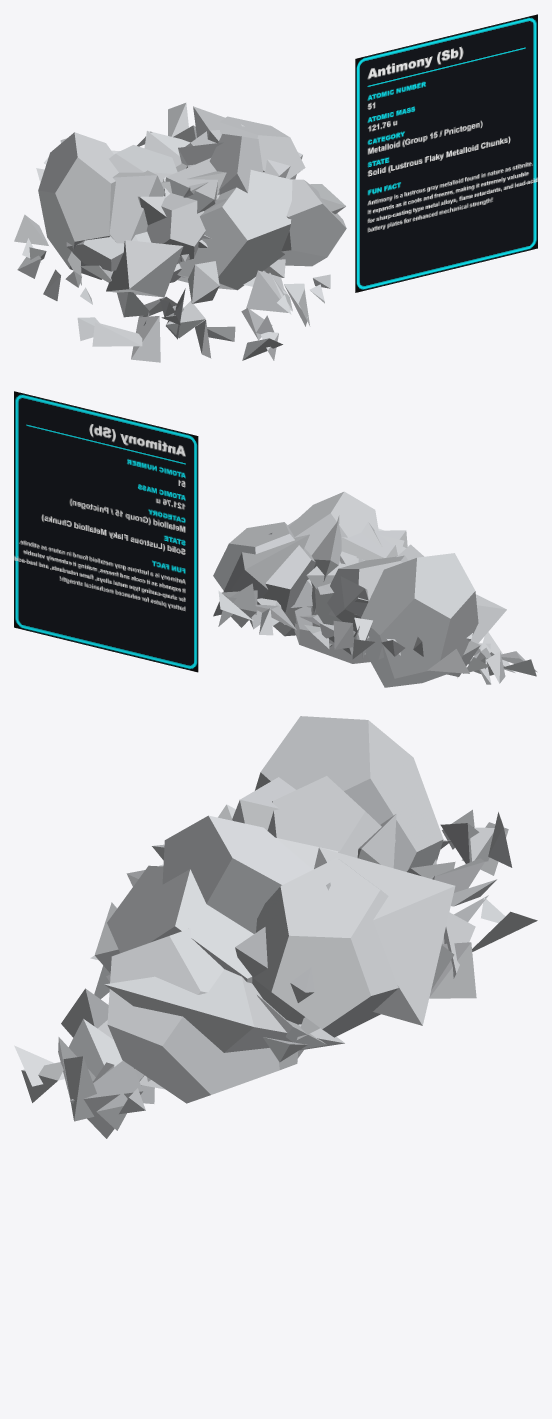
Rendered from antimony.glb.
The picture shows the model from 3 angles, top to bottom: view 1: azimuth 30°, elevation 25°; view 2: azimuth 150°, elevation 25°; view 3: azimuth 270°, elevation 25°; orthographic projection. The views are drawn at different scales.
Visible parts, largest first — view 1: Mesh_106, Mesh_30, Mesh_2, Mesh_33, Mesh_32, Mesh_23, Mesh_27, Mesh_4, Mesh_12, Mesh_6, Mesh_18, Mesh_22 (+15 smaller); view 2: Mesh_106, Mesh_2, Mesh_27, Mesh_12, Mesh_38, Mesh_18, Mesh_6, Mesh_30, Mesh_7, Mesh_32, Mesh_37, Mesh_19 (+5 smaller); view 3: Mesh_27, Mesh_33, Mesh_2, Mesh_12, Mesh_38, Mesh_30, Mesh_3, Mesh_18, Mesh_14, Mesh_85, Mesh_57, Mesh_55 (+8 smaller).
Part boxes in pixels (<box>): Mesh_106: <box>355,14,537,292</box>; Mesh_30: <box>177,170,292,290</box>; Mesh_2: <box>38,132,118,279</box>; Mesh_33: <box>278,179,346,266</box>; Mesh_32: <box>106,240,183,297</box>; Mesh_23: <box>109,170,164,243</box>; Mesh_27: <box>185,116,305,178</box>; Mesh_4: <box>146,193,205,261</box>; Mesh_12: <box>209,134,263,194</box>; Mesh_6: <box>165,158,218,213</box>; Mesh_18: <box>109,145,177,182</box>; Mesh_22: <box>66,232,151,271</box>; Mesh_106: <box>14,391,198,672</box>; Mesh_2: <box>361,553,478,687</box>; Mesh_27: <box>213,522,315,612</box>; Mesh_12: <box>284,491,378,623</box>; Mesh_38: <box>213,534,309,616</box>; Mesh_18: <box>327,555,408,631</box>; Mesh_6: <box>341,530,407,560</box>; Mesh_30: <box>294,528,383,663</box>; Mesh_7: <box>311,515,341,613</box>; Mesh_32: <box>471,594,506,643</box>; Mesh_37: <box>340,576,368,616</box>; Mesh_19: <box>306,522,382,654</box>; Mesh_27: <box>253,858,398,1037</box>; Mesh_33: <box>107,928,298,1103</box>; Mesh_2: <box>255,716,443,871</box>; Mesh_12: <box>162,815,312,933</box>; Mesh_38: <box>314,847,455,1025</box>; Mesh_30: <box>107,865,303,1058</box>; Mesh_3: <box>104,969,344,1052</box>; Mesh_18: <box>267,776,395,857</box>; Mesh_14: <box>235,882,330,1024</box>; Mesh_85: <box>70,1061,143,1138</box>; Mesh_57: <box>429,942,476,998</box>; Mesh_55: <box>68,1019,122,1081</box>.
Bounding box in the file's own units: 2.94 × 1.32 × 1.6.
Materials: 2 (1 with a texture image).
